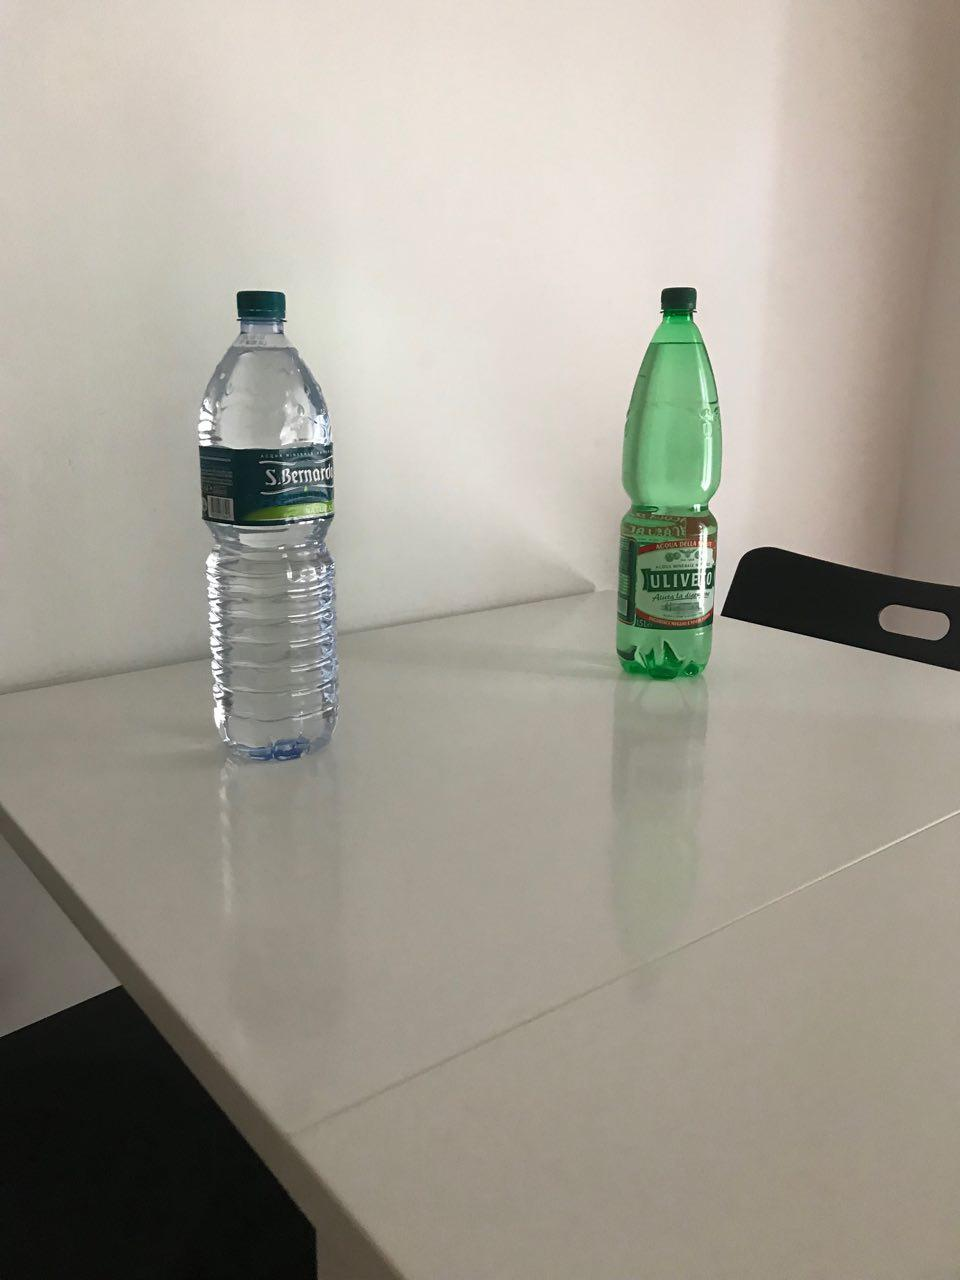san_bernardo: (197, 291, 340, 762)
